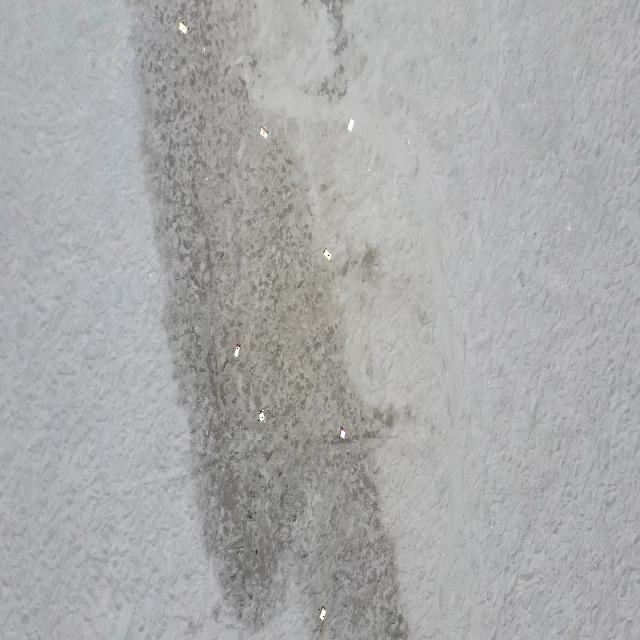retort-pouch: (345, 116, 356, 134), (318, 605, 327, 622), (178, 22, 189, 35), (232, 345, 242, 358), (322, 248, 332, 260), (339, 426, 347, 440), (259, 126, 268, 138), (258, 410, 266, 422)
